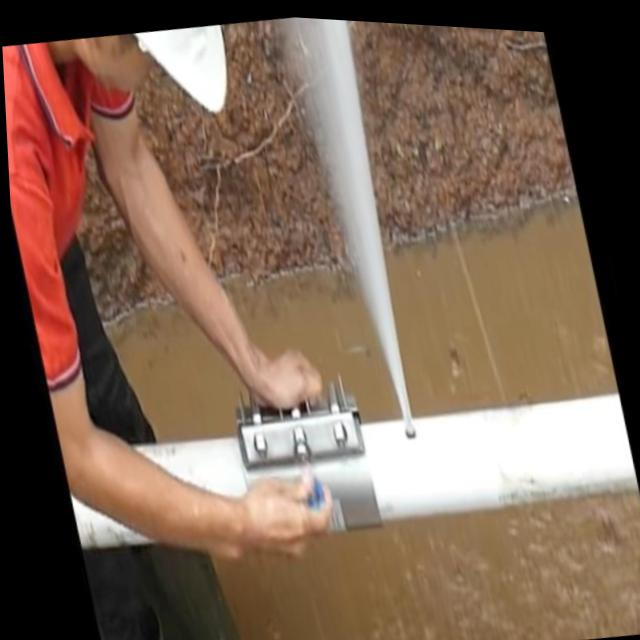leak: (284, 17, 415, 437)
